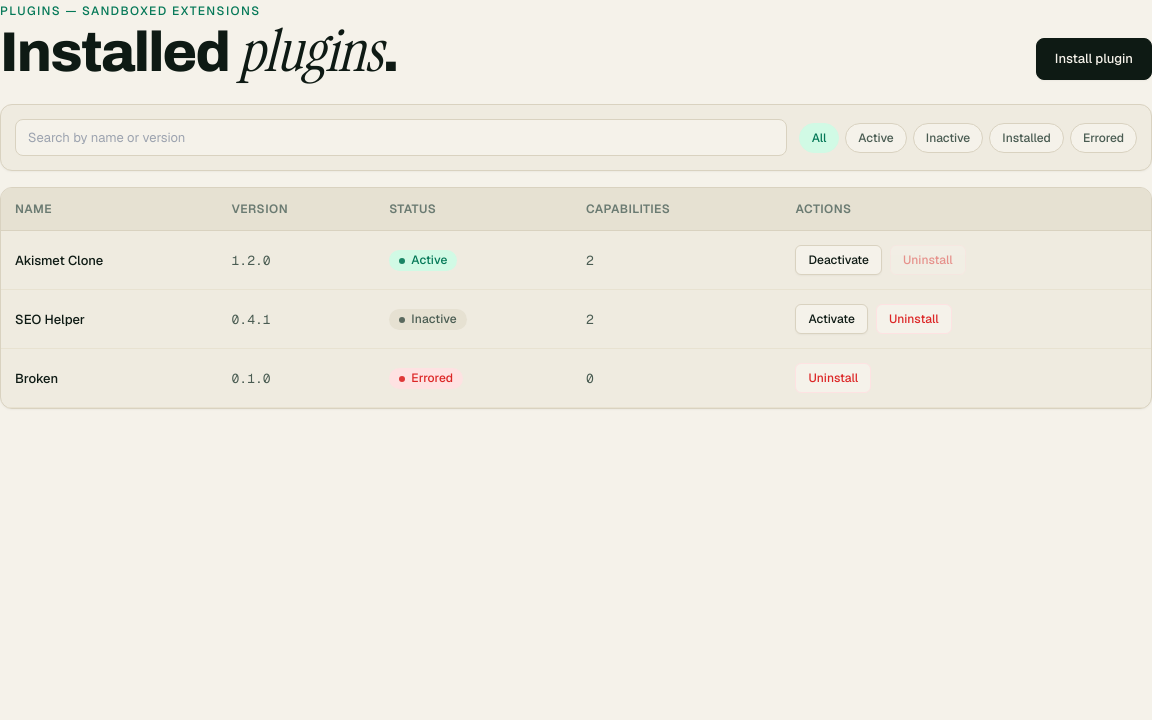
it: PluginListClient › lets an errored plugin be uninstalled (after confirmation)
What coordinates should you click on to do the following:
click the button with aria-label "uninstall broken-plugin"
I would click on:
 (833, 378)
Its box is [796,363,871,393].
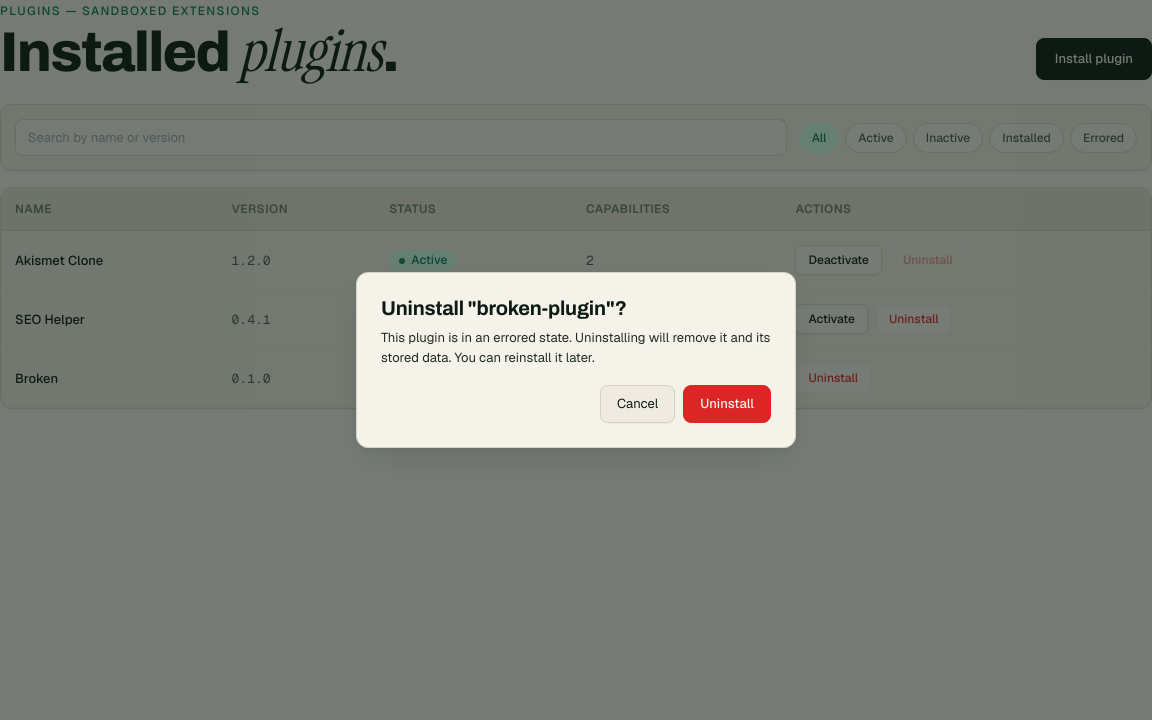
Check: the dialog is shown
